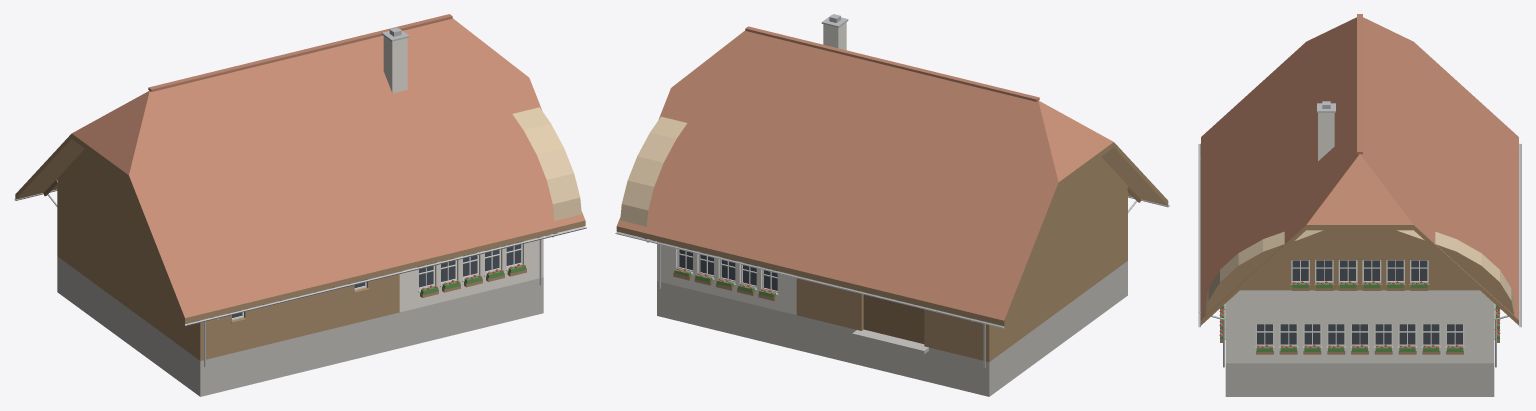
Rendered from farmhouse_m.glb.
The picture shows the model from 3 angles, left to right: view 1: azimuth 30°, elevation 25°; view 2: azimuth 150°, elevation 25°; view 3: azimuth 270°, elevation 25°; orthographic projection. The views are drawn at different scales.
Visible parts, largest first — view 1: farmhouse_m; view 2: farmhouse_m; view 3: farmhouse_m.
Part boxes in pixels (x1,y1,x2,y2): farmhouse_m: (14,14,586,396); farmhouse_m: (615,14,1169,396); farmhouse_m: (1198,14,1521,396).
Size of the model in its own units: 21 by 13.38 by 15.66.
